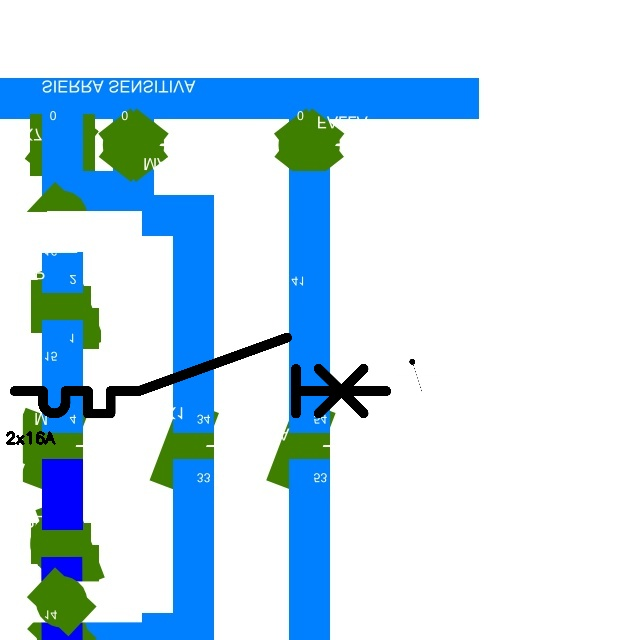interruptor_termomagnetico: (5, 328, 395, 423)
